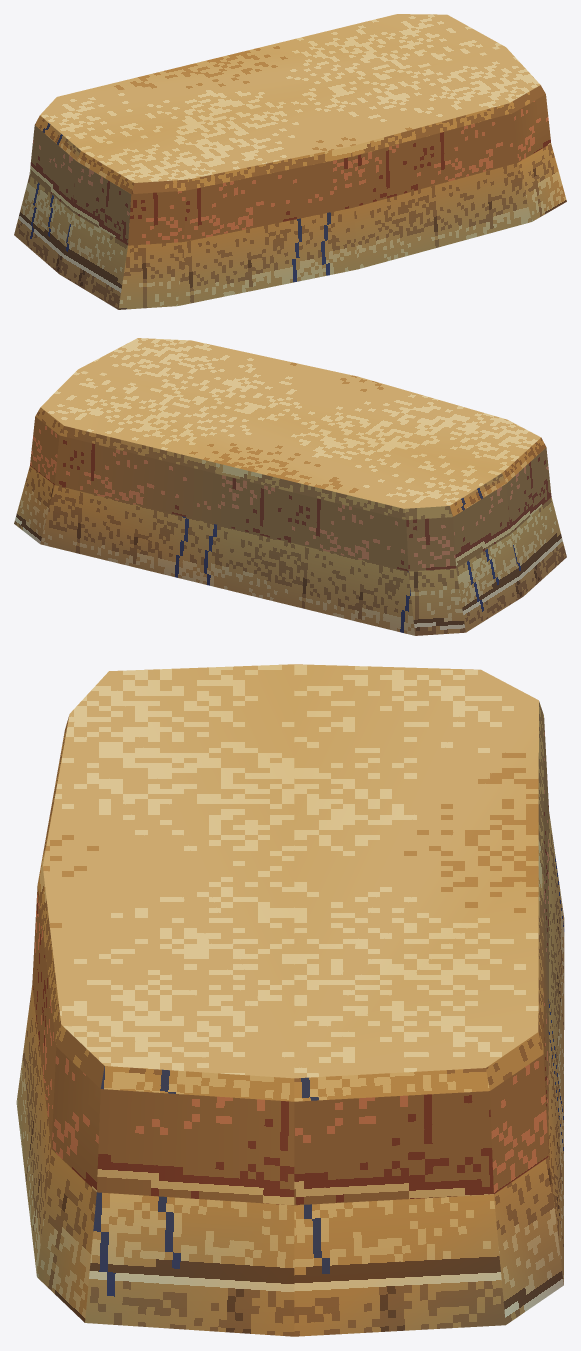
The model's file is wland.ledge.glb.
3 views of the same model, one above another, from view 1: azimuth 30°, elevation 25°; view 2: azimuth 150°, elevation 25°; view 3: azimuth 270°, elevation 25° (orthographic). The views are drawn at different scales.
Visible parts, largest first — view 1: kit_ledge; view 2: kit_ledge; view 3: kit_ledge.
Boxes of the visible parts, left/top/right/bottom form: kit_ledge: left=14, top=14, right=566, bottom=309; kit_ledge: left=14, top=338, right=566, bottom=635; kit_ledge: left=16, top=664, right=564, bottom=1336.
Bounding box in the file's own units: 8.3 × 2 × 4.2.
Materials: 4 (4 with a texture image).
